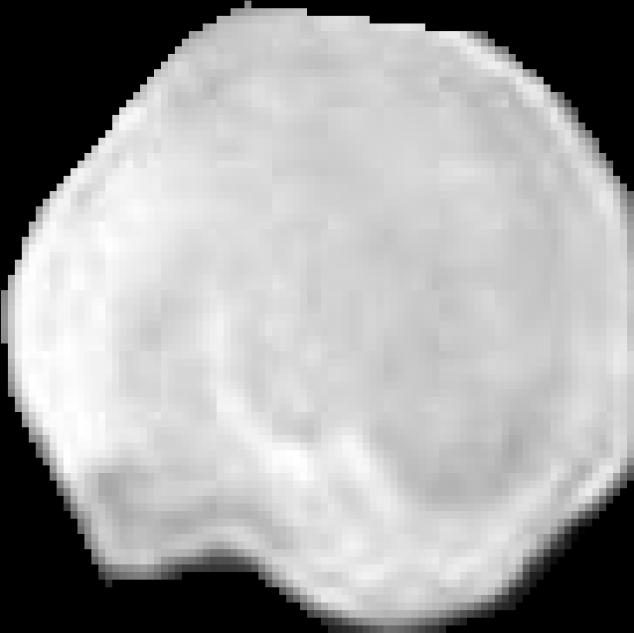tumor_less_chance: (1, 1, 634, 633)
